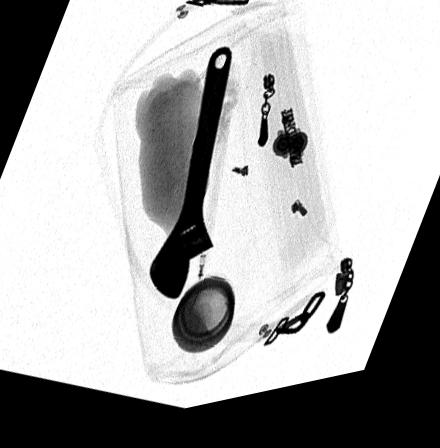Wrench: (148, 55, 231, 309)
